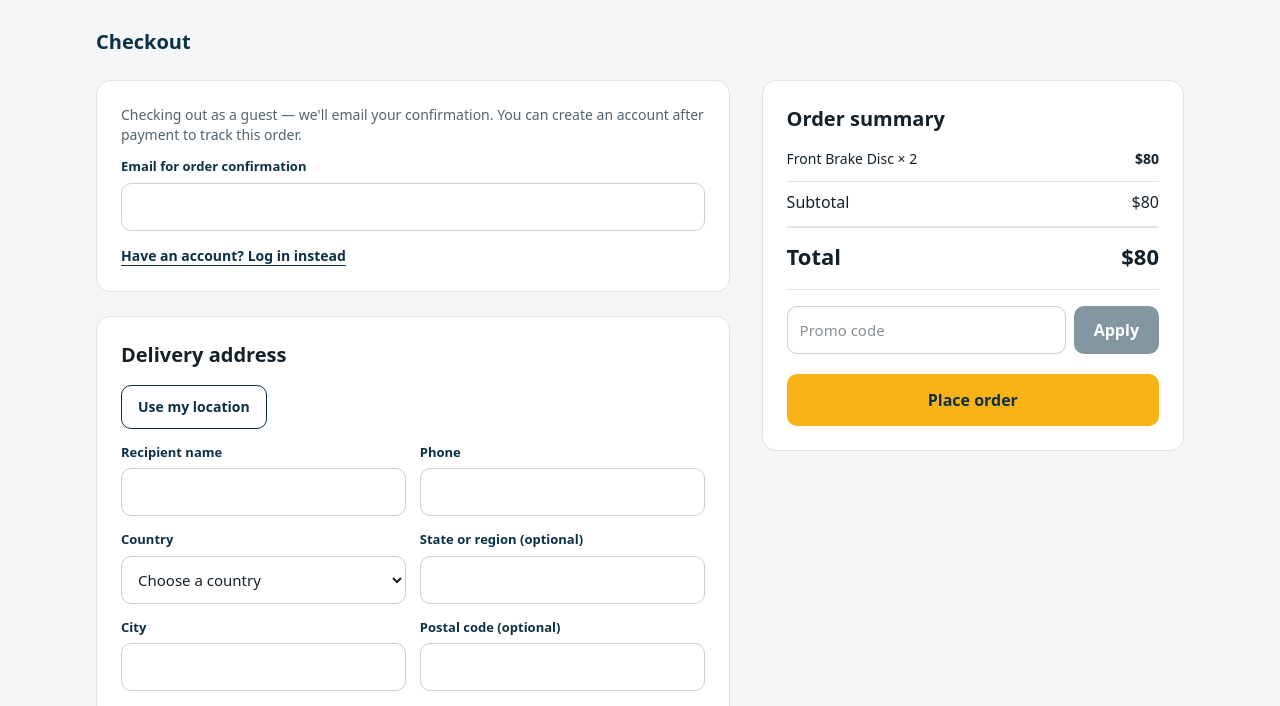
checkout: payment methods, waiting, stock, promo › a country with no payment methods says so
Select "Oman" in the dropdown labelled "Country": (263, 580) [121, 556, 406, 604]
(page scrolled)
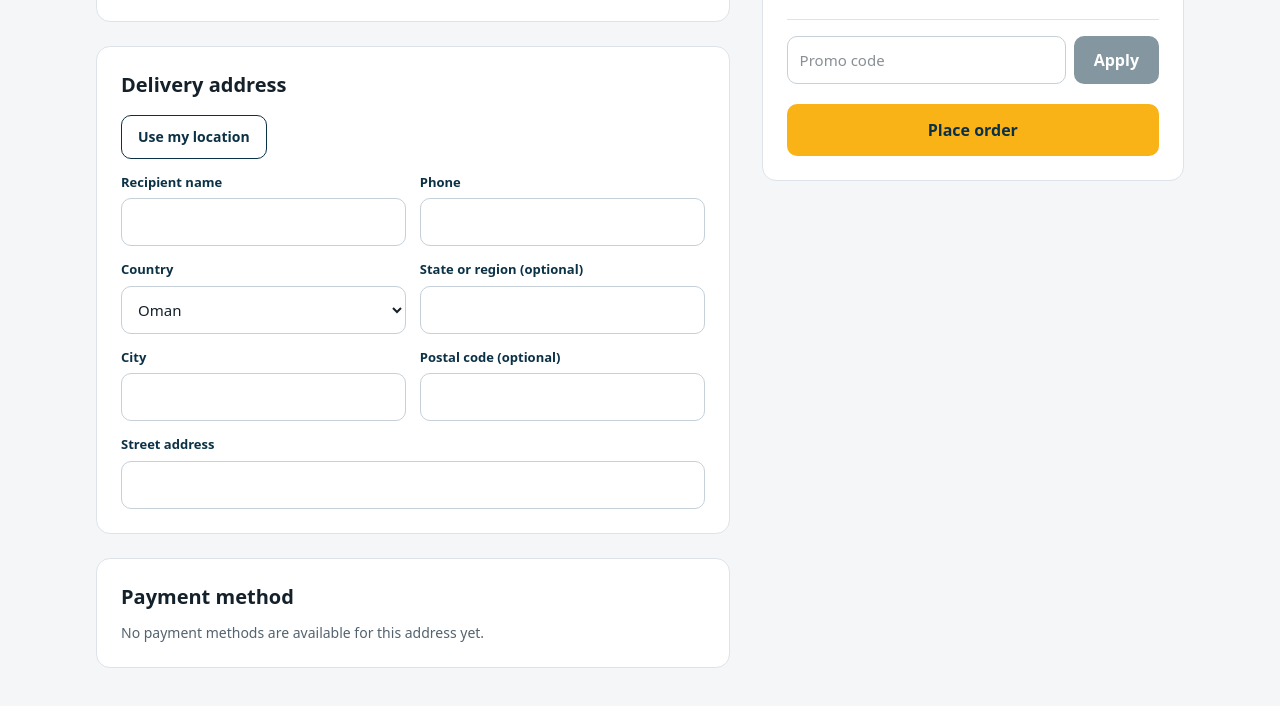
Expected: the text "No payment methods are available for this address yet." is shown, [121, 622, 484, 642]
